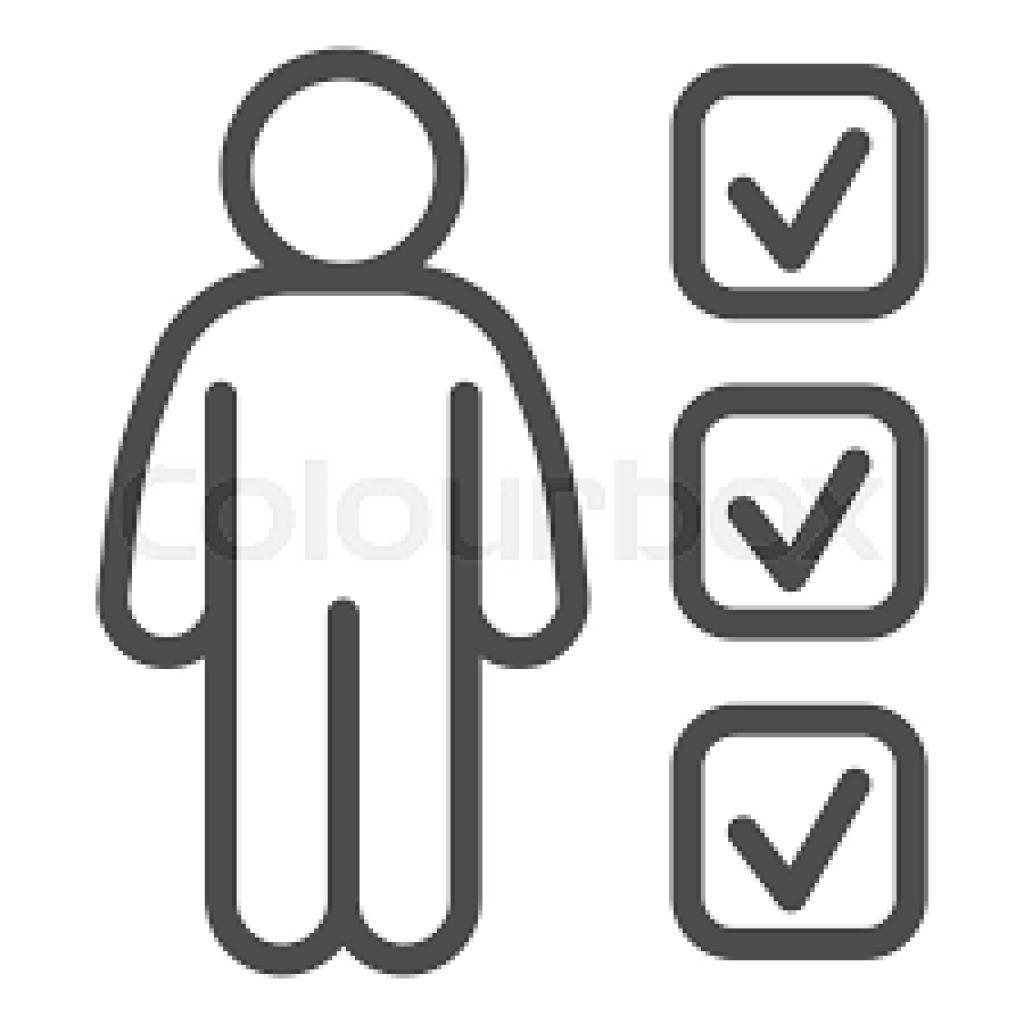checkbox: (685, 85, 915, 312), (695, 407, 909, 622), (699, 721, 915, 934)
